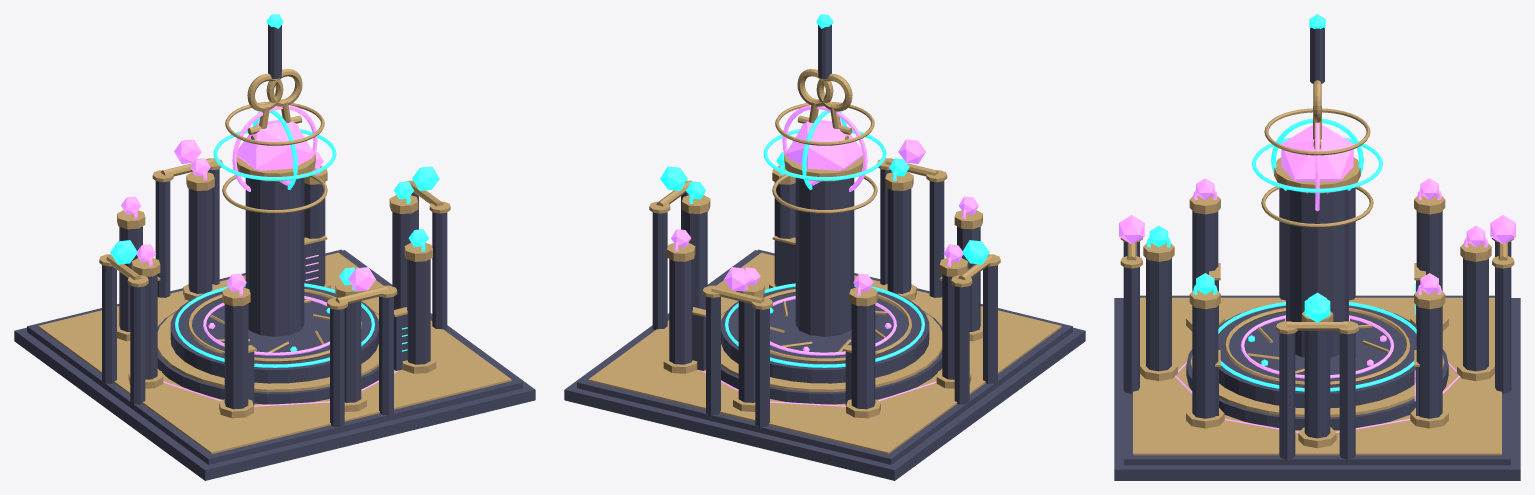
3 views of the same model, side by side, from view 1: azimuth 30°, elevation 25°; view 2: azimuth 150°, elevation 25°; view 3: azimuth 270°, elevation 25° (orthographic). The views are drawn at different scales.
Parts seen in each view (by area): view 1: stone, gold, violet, cyan; view 2: stone, gold, violet, cyan; view 3: stone, gold, violet, cyan.
Boxes of the visible parts, x1=… form: stone: x1=14, y1=24, x2=535, y2=480; gold: x1=38, y1=69, x2=511, y2=454; violet: x1=121, y1=105, x2=399, y2=406; cyan: x1=110, y1=14, x2=439, y2=367; stone: x1=564, y1=24, x2=1085, y2=480; gold: x1=588, y1=69, x2=1061, y2=454; violet: x1=671, y1=105, x2=978, y2=406; cyan: x1=660, y1=14, x2=989, y2=367; stone: x1=1114, y1=27, x2=1520, y2=480; gold: x1=1120, y1=80, x2=1514, y2=455; violet: x1=1119, y1=122, x2=1515, y2=432; cyan: x1=1146, y1=14, x2=1416, y2=391.
Size of the model in its own units: 10.35 by 10.65 by 10.35.
